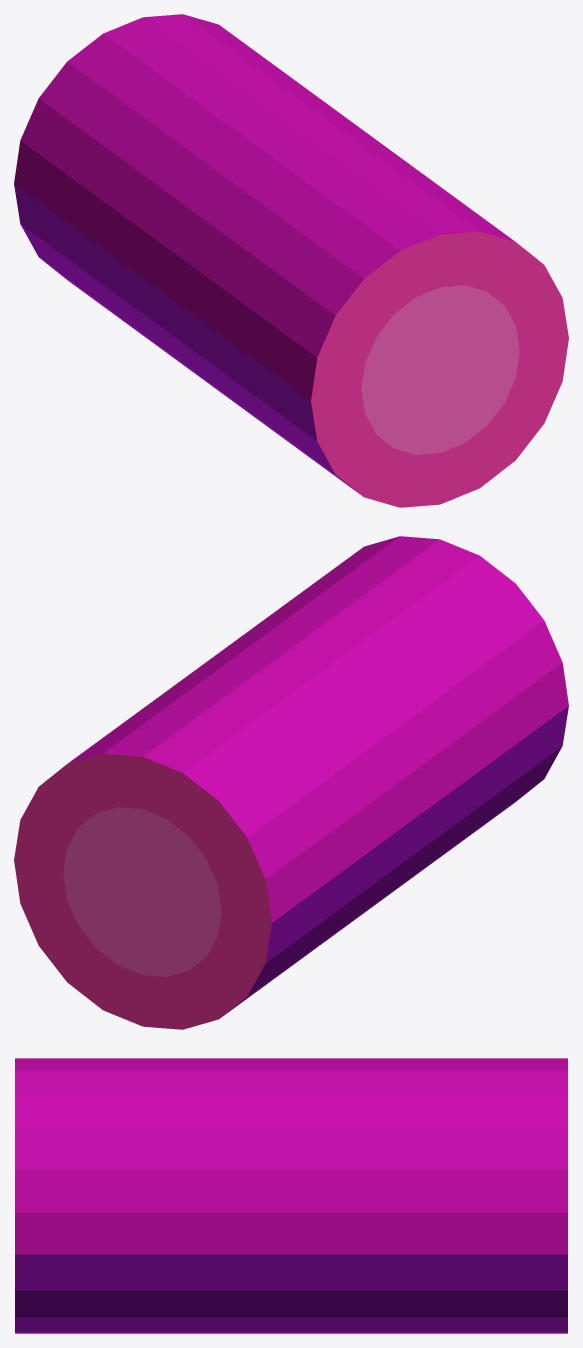
File: Building_023_b.fbx
The picture shows the model from 3 angles, top to bottom: view 1: azimuth 30°, elevation 25°; view 2: azimuth 150°, elevation 25°; view 3: azimuth 270°, elevation 25°; orthographic projection. The views are drawn at different scales.
Parts seen in each view (by area): view 1: Building_023_b_h; view 2: Building_023_b_h; view 3: Building_023_b_h.
Boxes of the visible parts, x1,y1,x2,y2 form: Building_023_b_h: [14, 14, 568, 507]; Building_023_b_h: [14, 536, 568, 1029]; Building_023_b_h: [15, 1058, 567, 1333].
Size of the model in its own units: 5.1 by 5.1 by 10.21.
